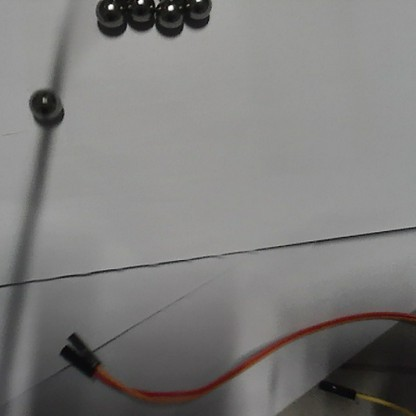ironball: (28, 88, 60, 118), (95, 0, 125, 26), (157, 0, 183, 30), (125, 0, 154, 25), (185, 0, 212, 17)
